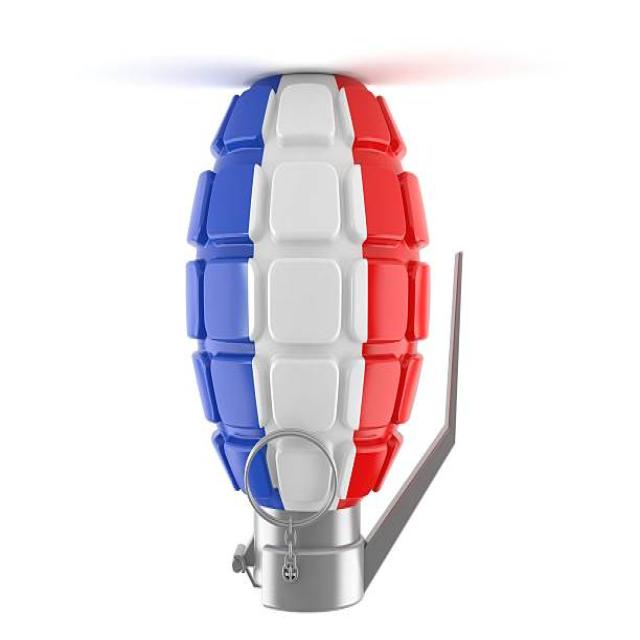grenade: (178, 71, 470, 624)
